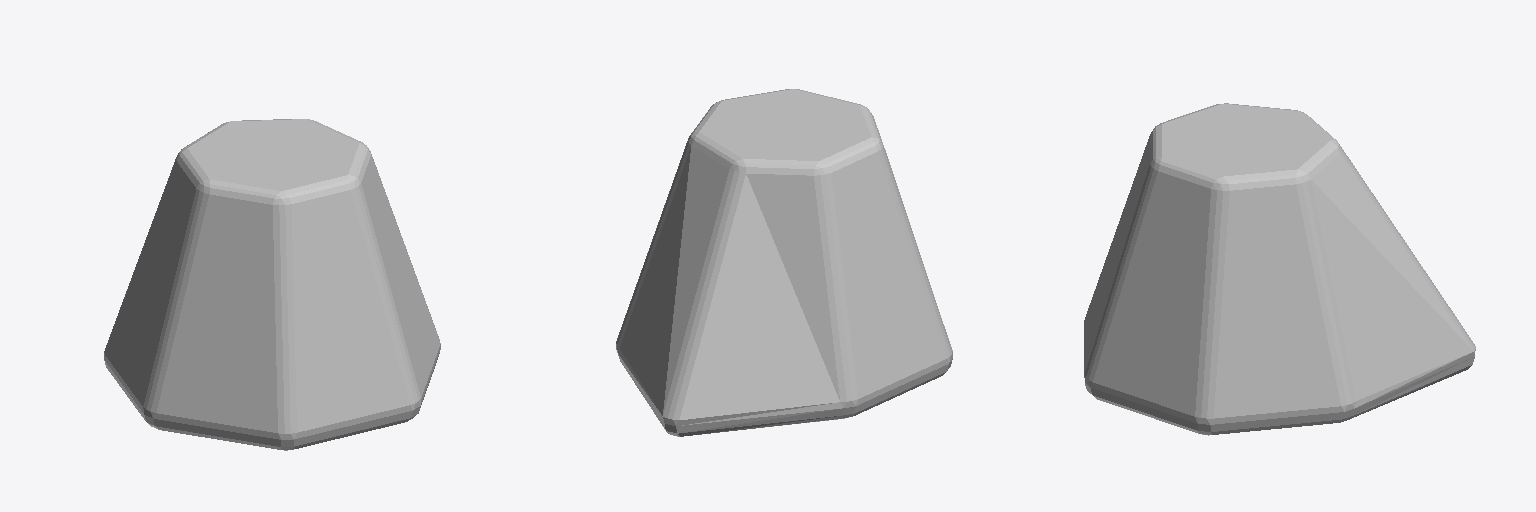
File: Med-Knob.obj
The picture shows the model from 3 angles: view 1: azimuth 30°, elevation 25°; view 2: azimuth 150°, elevation 25°; view 3: azimuth 270°, elevation 25°; orthographic projection.
Parts seen in each view (by area): view 1: Cylinder; view 2: Cylinder; view 3: Cylinder.
Boxes of the visible parts, x1,y1,x2,y2 form: Cylinder: [104, 119, 440, 450]; Cylinder: [616, 89, 952, 436]; Cylinder: [1084, 103, 1475, 435].
Bounding box in the file's own units: 1.87 × 1.41 × 2.16.